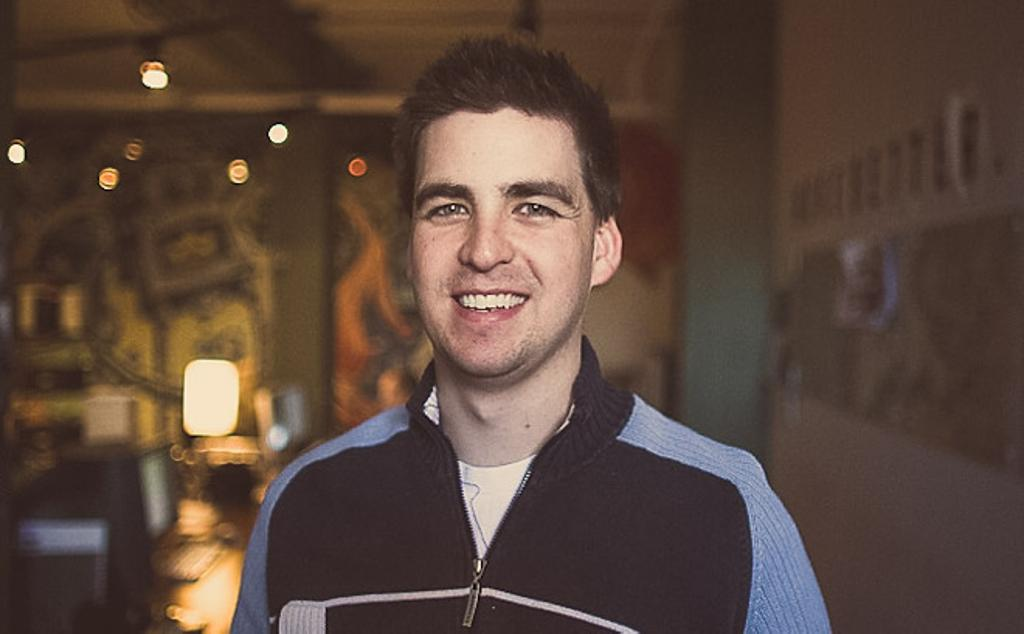face: (418, 110, 588, 376)
